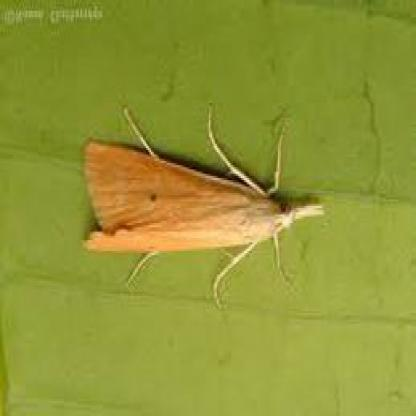stem-borer: (84, 104, 328, 314)
